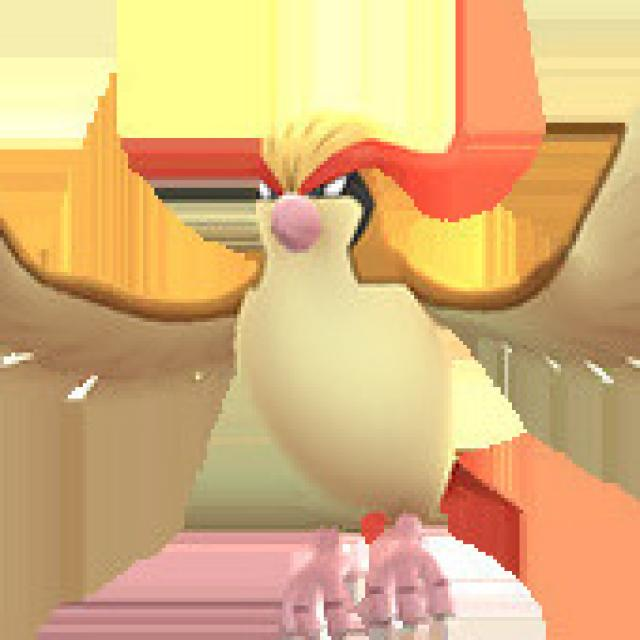Pidgeot: (184, 112, 468, 640)
